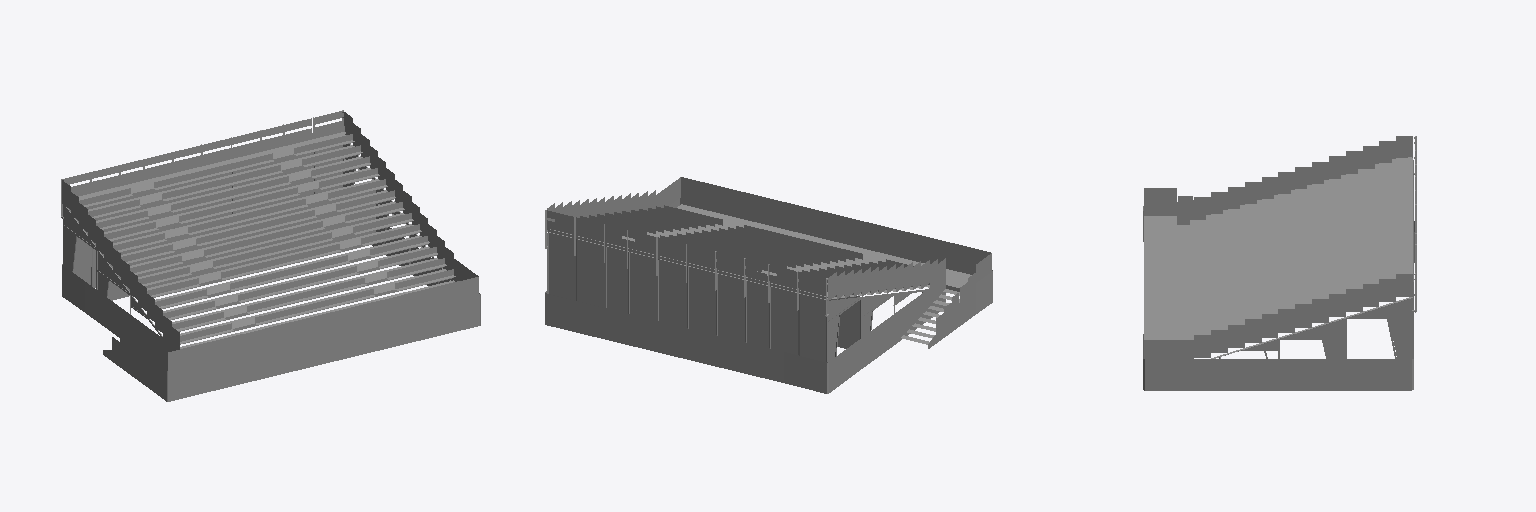
Rendered from grand_stand.obj.
3 renders of one model, left to right at view 1: azimuth 30°, elevation 25°; view 2: azimuth 150°, elevation 25°; view 3: azimuth 270°, elevation 25°, orthographic.
Parts seen in each view (by area): view 1: Node_013_mel_grandstand_genericmedium_a_physics_!bk; view 2: Node_013_mel_grandstand_genericmedium_a_physics_!bk; view 3: Node_013_mel_grandstand_genericmedium_a_physics_!bk.
Part boxes in pixels (left/top/right/bottom): Node_013_mel_grandstand_genericmedium_a_physics_!bk: left=61, top=110, right=480, bottom=401; Node_013_mel_grandstand_genericmedium_a_physics_!bk: left=545, top=177, right=992, bottom=393; Node_013_mel_grandstand_genericmedium_a_physics_!bk: left=1143, top=136, right=1416, bottom=390.
Bounding box in the file's own units: 23.67 × 8.38 × 17.87.